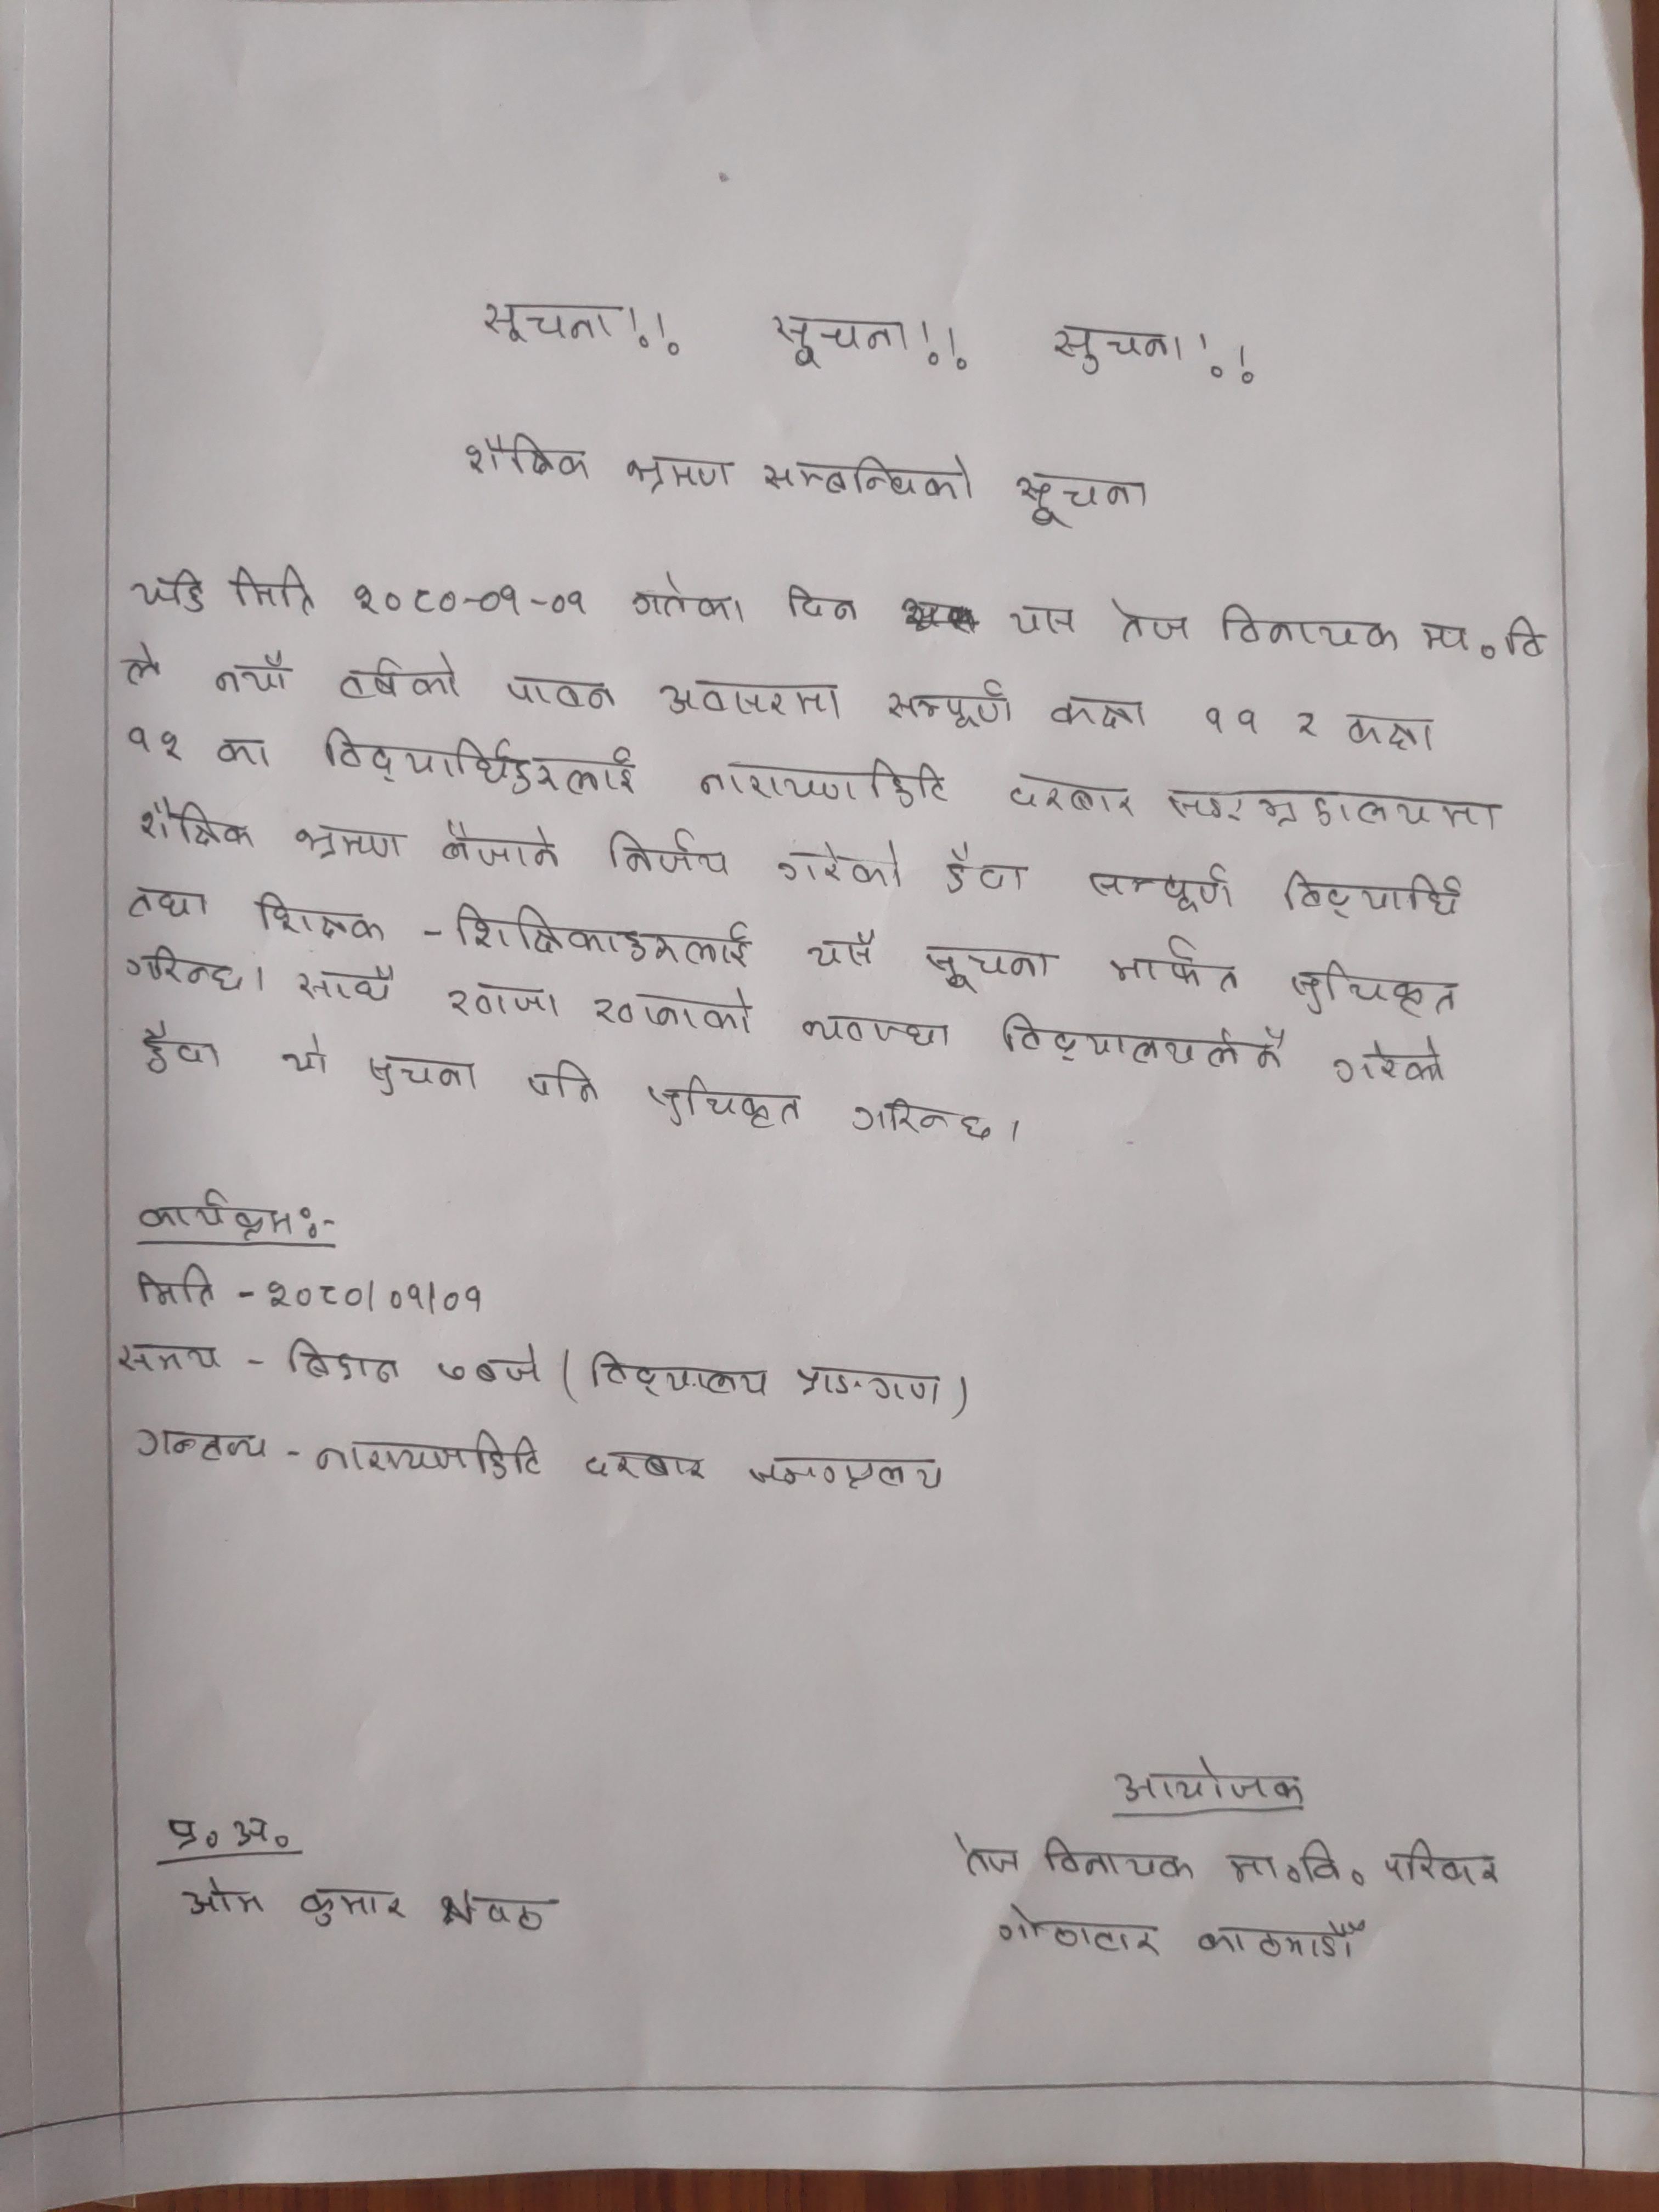text: (312, 723, 647, 799), (448, 900, 751, 970), (997, 1010, 1284, 1078), (1159, 787, 1507, 840), (697, 756, 958, 810), (762, 449, 978, 510), (1215, 594, 1406, 658), (314, 1430, 542, 1484), (350, 577, 589, 625), (1107, 1754, 1319, 1808), (1290, 960, 1462, 1024), (587, 1348, 774, 1406), (1281, 867, 1466, 921), (746, 1449, 950, 1498), (762, 308, 915, 373), (261, 1275, 483, 1318), (645, 1071, 802, 1132), (990, 1904, 1166, 1958), (657, 672, 847, 721), (1046, 317, 1188, 381), (132, 1190, 301, 1244), (1107, 935, 1248, 1000), (1194, 1916, 1371, 1966), (1012, 467, 1155, 529), (1084, 864, 1237, 920), (589, 986, 751, 1038), (1223, 1836, 1368, 1893), (601, 822, 737, 883), (800, 1001, 955, 1054), (791, 1359, 945, 1411), (1042, 1834, 1195, 1886), (850, 1092, 997, 1146), (885, 674, 1018, 733), (256, 888, 392, 944), (775, 834, 906, 892), (1004, 766, 1140, 820), (634, 571, 748, 636), (134, 798, 256, 857), (336, 650, 462, 707), (1382, 1838, 1509, 1893), (924, 941, 1054, 995), (479, 296, 624, 345), (457, 432, 596, 482), (1419, 613, 1546, 665), (434, 820, 565, 871), (620, 446, 742, 500), (129, 1423, 274, 1468), (122, 946, 251, 995), (228, 556, 317, 624), (579, 1446, 716, 1489), (291, 817, 410, 866), (362, 1052, 481, 1101), (1338, 1036, 1445, 1089), (432, 1888, 552, 1933), (279, 1339, 403, 1383), (439, 981, 561, 1024), (124, 564, 209, 625), (295, 1886, 411, 1930), (162, 1813, 288, 1853), (946, 1825, 1026, 1888), (498, 672, 617, 714), (1110, 597, 1197, 653), (295, 960, 401, 1005), (209, 650, 303, 700), (1342, 711, 1443, 758), (136, 1021, 223, 1073), (132, 1261, 220, 1313), (945, 846, 1033, 897), (115, 1338, 218, 1379), (1047, 695, 1155, 733), (519, 1059, 601, 1109), (781, 577, 859, 629), (181, 1876, 268, 1921), (125, 880, 213, 923), (469, 1341, 547, 1386), (805, 928, 880, 970), (122, 721, 185, 766), (281, 1029, 335, 1080), (1011, 603, 1086, 637), (1204, 702, 1262, 744), (211, 732, 272, 770), (120, 641, 169, 688), (1290, 705, 1324, 747), (436, 1353, 469, 1381)
